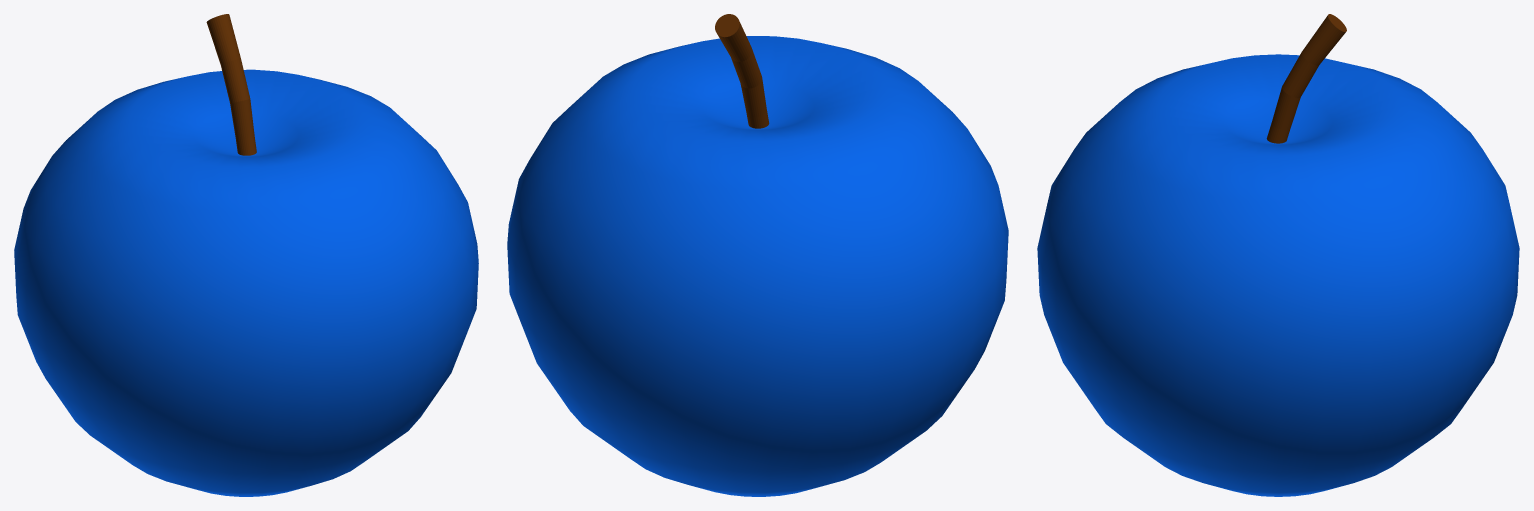
File: blueAplle.fbx
The picture shows the model from 3 angles, left to right: view 1: azimuth 30°, elevation 25°; view 2: azimuth 150°, elevation 25°; view 3: azimuth 270°, elevation 25°; orthographic projection. The views are drawn at different scales.
Visible parts, largest first — view 1: Sphere; view 2: Sphere; view 3: Sphere.
Part boxes in pixels (<box>): Sphere: <box>14,14,478,496</box>; Sphere: <box>507,14,1008,496</box>; Sphere: <box>1037,14,1519,496</box>.
Size of the model in its own units: 173 by 177 by 173.
